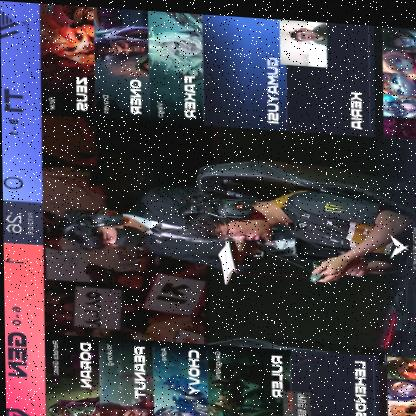streamer: (175, 178, 416, 283), (54, 176, 299, 273)
